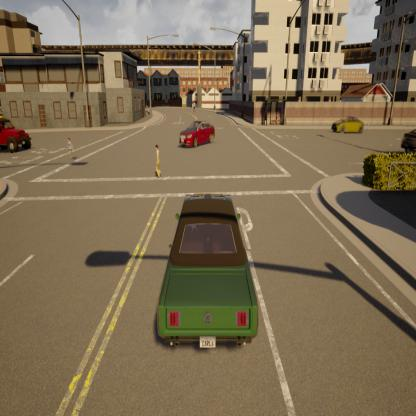Cars: (147, 187, 264, 358), (0, 114, 37, 160), (180, 116, 218, 153), (333, 112, 368, 138), (392, 126, 416, 156)
Pedestrian: (149, 139, 165, 184), (64, 135, 75, 164)
